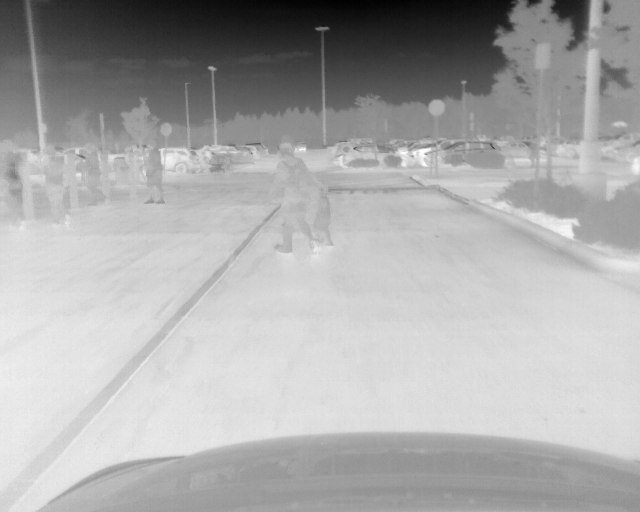car: (424, 140, 497, 166), (346, 144, 414, 169), (163, 146, 193, 174), (505, 141, 528, 158), (238, 147, 253, 161), (250, 146, 263, 161), (212, 145, 236, 152), (294, 142, 306, 152)
people: (269, 144, 317, 255), (43, 151, 72, 229), (1, 150, 26, 229), (77, 147, 106, 206), (312, 184, 334, 248), (143, 145, 165, 205), (528, 140, 536, 168)
